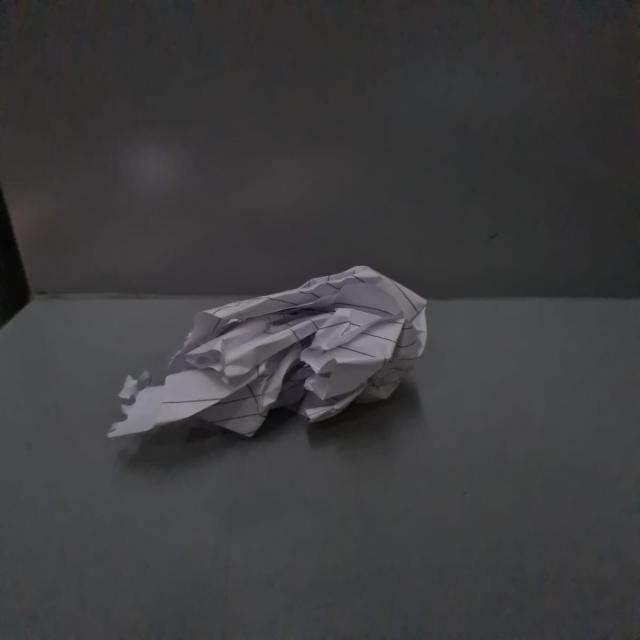cardboard paper: (107, 265, 425, 435)
